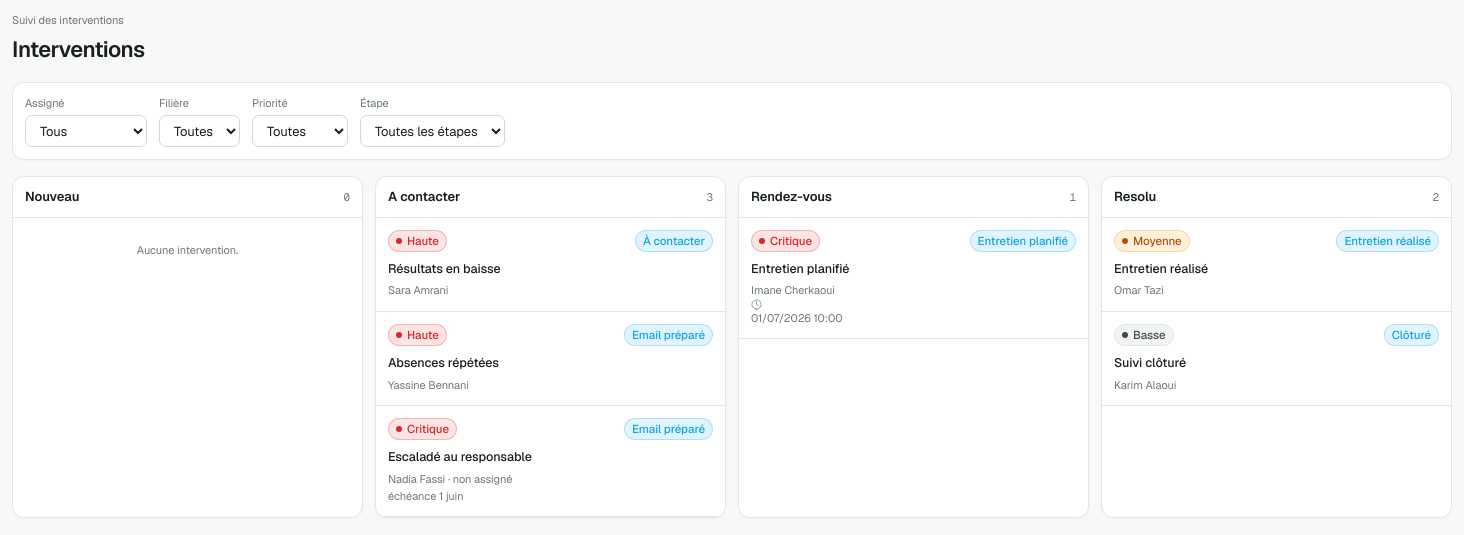
Test case: Cases intervention queue › filters primary cards by owner (assigné / non assigné)
Check: the heading "Interventions" is shown, box left=12, top=34, right=144, bottom=62
Select "Non assignés" in the dropdown labelled "Assigné": (86, 131) left=25, top=115, right=147, bottom=147
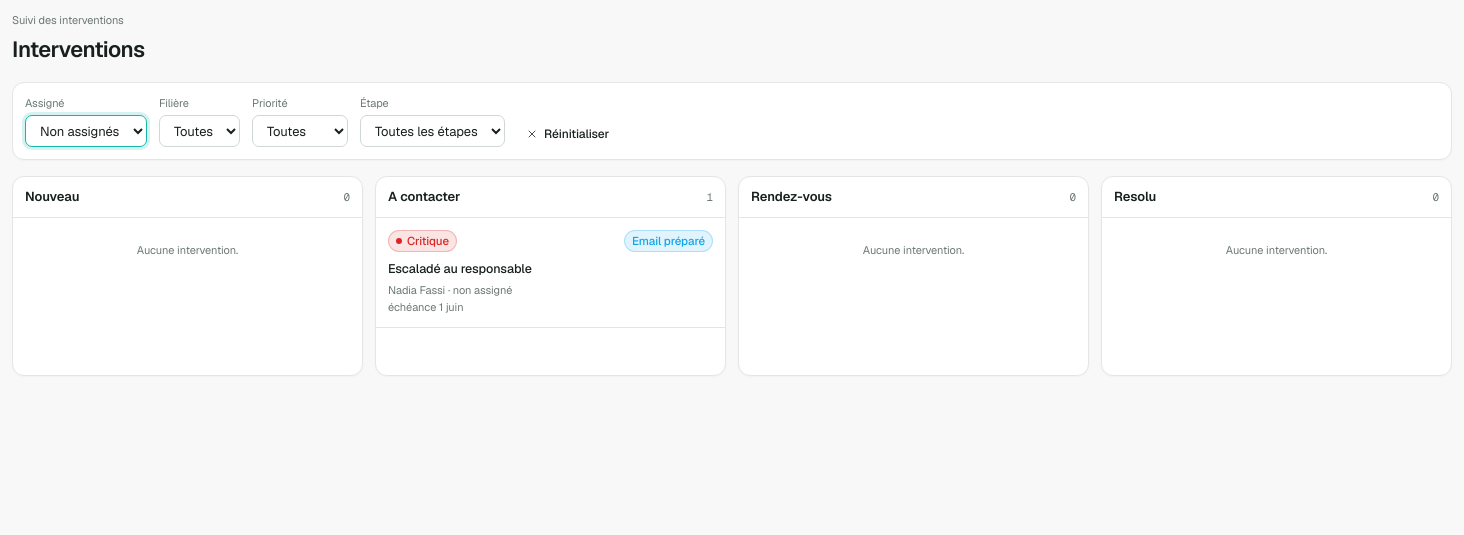
Check: the button "Nadia Fassi" is shown, box left=376, top=218, right=725, bottom=328
Check: the button "Sara Amrani" is gone
